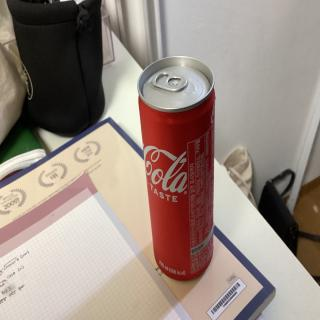cocacola: (135, 54, 221, 282)
